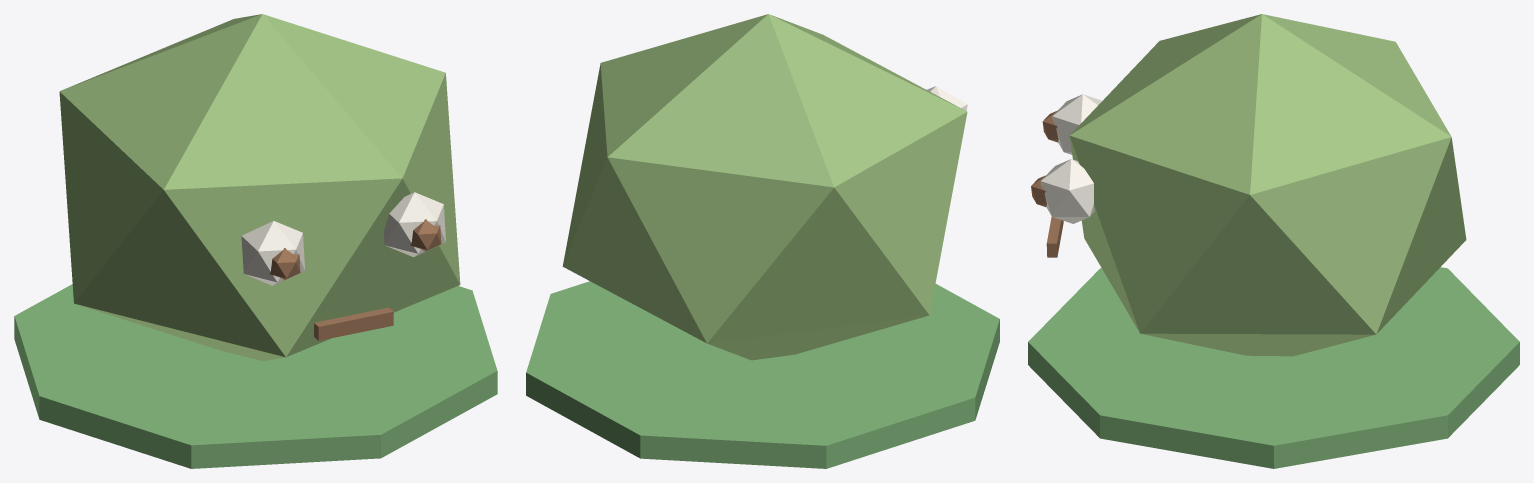
The model's file is npcpose_slime_idle_05.glb.
The picture shows the model from 3 angles, left to right: view 1: azimuth 30°, elevation 25°; view 2: azimuth 150°, elevation 25°; view 3: azimuth 270°, elevation 25°; orthographic projection.
Parts seen in each view (by area): view 1: npcpose; view 2: npcpose; view 3: npcpose.
Boxes of the visible parts, left/top/right/bottom form: npcpose: left=14, top=14, right=497, bottom=468; npcpose: left=526, top=14, right=999, bottom=468; npcpose: left=1028, top=14, right=1519, bottom=468.
Bounding box in the file's own units: 0.96 × 0.7568 × 0.96.
